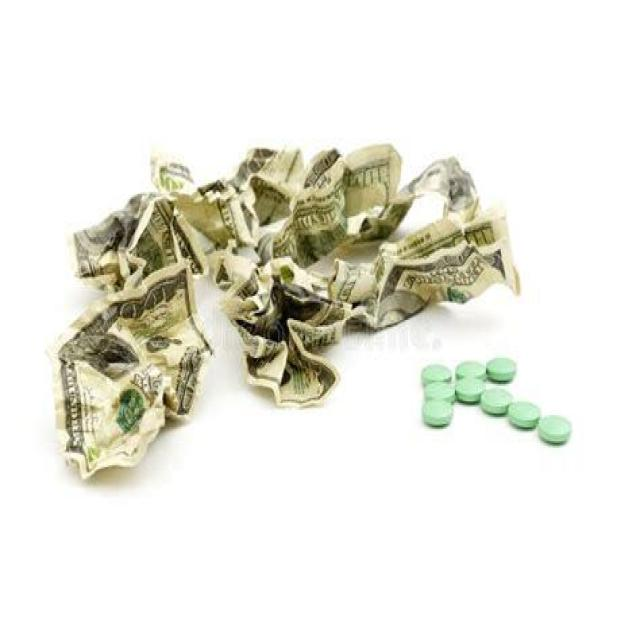banknote: (239, 216, 529, 404), (58, 259, 221, 482), (250, 145, 404, 268), (146, 160, 318, 254), (70, 195, 214, 302), (120, 273, 183, 327), (349, 161, 394, 197)
